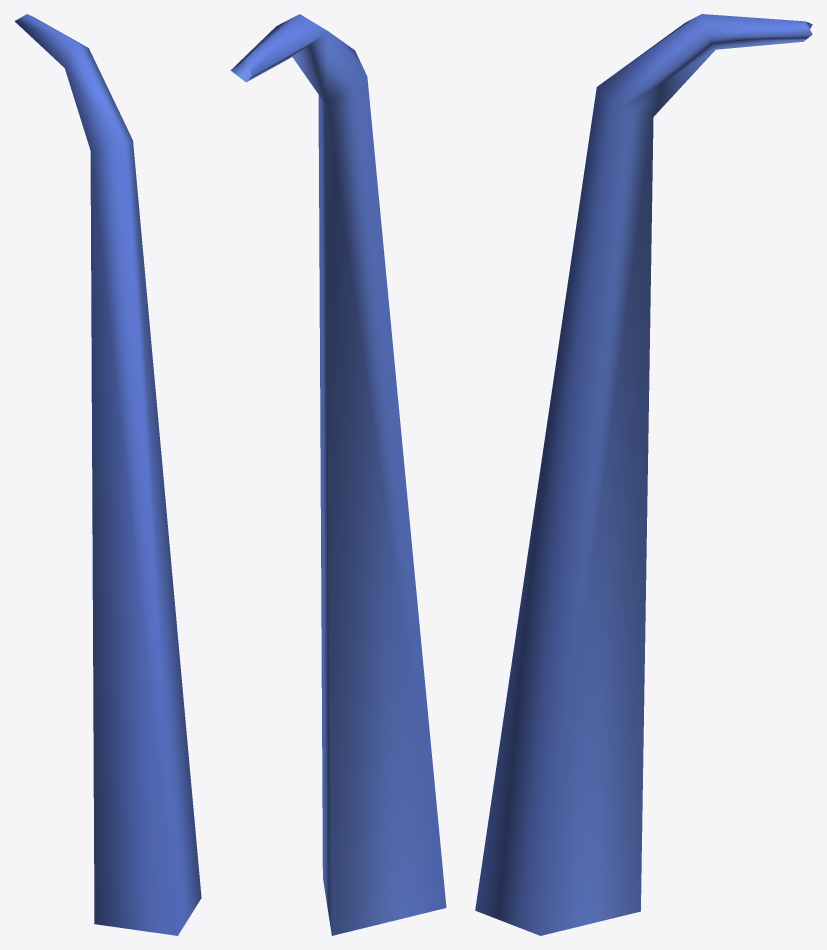
File: SK_Waterfall.FBX
The picture shows the model from 3 angles, left to right: view 1: azimuth 30°, elevation 25°; view 2: azimuth 150°, elevation 25°; view 3: azimuth 270°, elevation 25°; orthographic projection. The views are drawn at different scales.
Parts seen in each view (by area): view 1: Object608; view 2: Object608; view 3: Object608.
Boxes of the visible parts, bbox=[...] form: Object608: bbox=[14, 14, 201, 935]; Object608: bbox=[230, 14, 446, 935]; Object608: bbox=[475, 14, 812, 935].
Size of the model in its own units: 12.01 by 87.8 by 29.93.
1 material, 1 textured.
